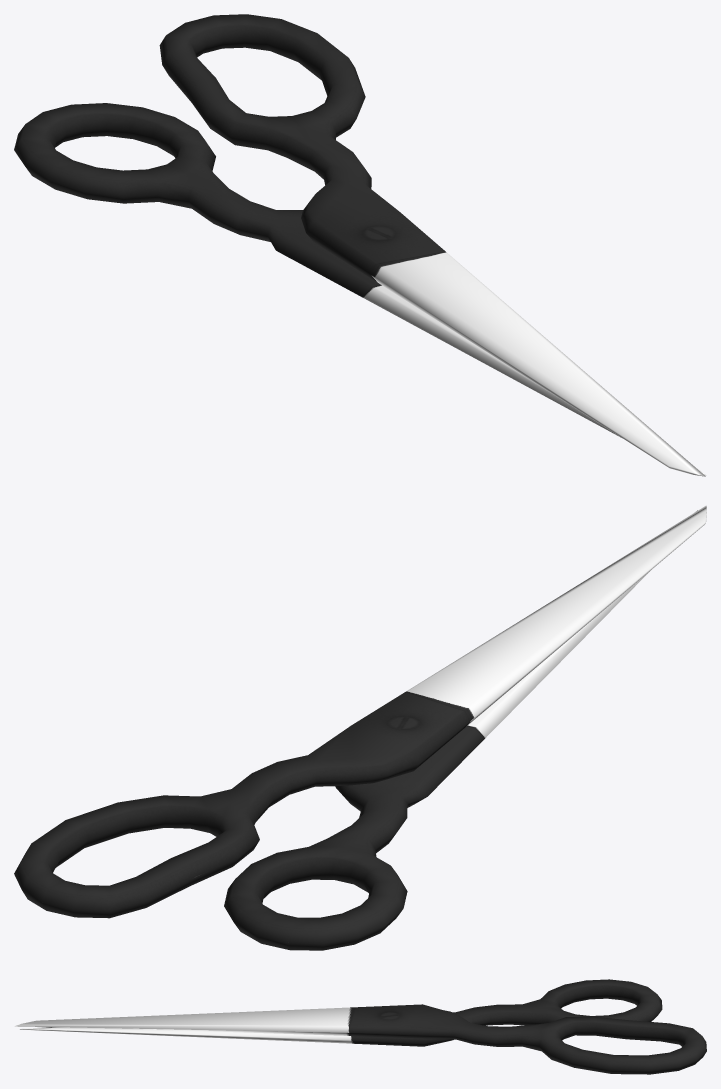
File: scissors_01.fbx
3 views of the same model, one above another, from view 1: azimuth 30°, elevation 25°; view 2: azimuth 150°, elevation 25°; view 3: azimuth 270°, elevation 25° (orthographic). The views are drawn at different scales.
Visible parts, largest first — view 1: scissors_01.001, scissors_01; view 2: scissors_01.001, scissors_01; view 3: scissors_01.001, scissors_01.
Part boxes in pixels (<box>): scissors_01.001: <box>159,14,705,476</box>; scissors_01: <box>14,103,706,475</box>; scissors_01.001: <box>14,505,706,918</box>; scissors_01: <box>224,510,697,950</box>; scissors_01.001: <box>15,1004,706,1074</box>; scissors_01: <box>20,979,662,1046</box>.
Size of the model in its own units: 22.3 by 2.66 by 67.98.
